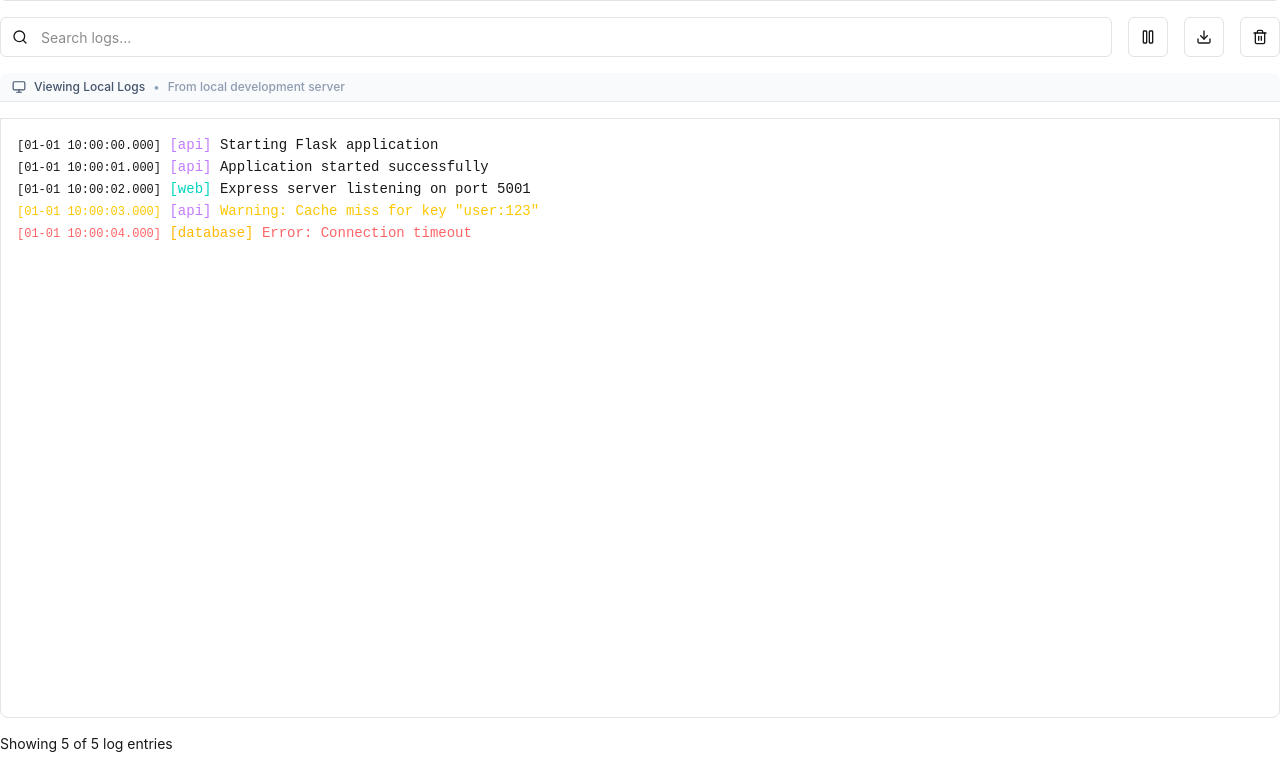
LogsView › should jump to bottom when button is clicked
Expected: the text "Starting Flask application" is shown, [220,137,438,153]
Click the button titled "Pause": (1148, 37) [1128,17,1168,57]
(page scrolled)
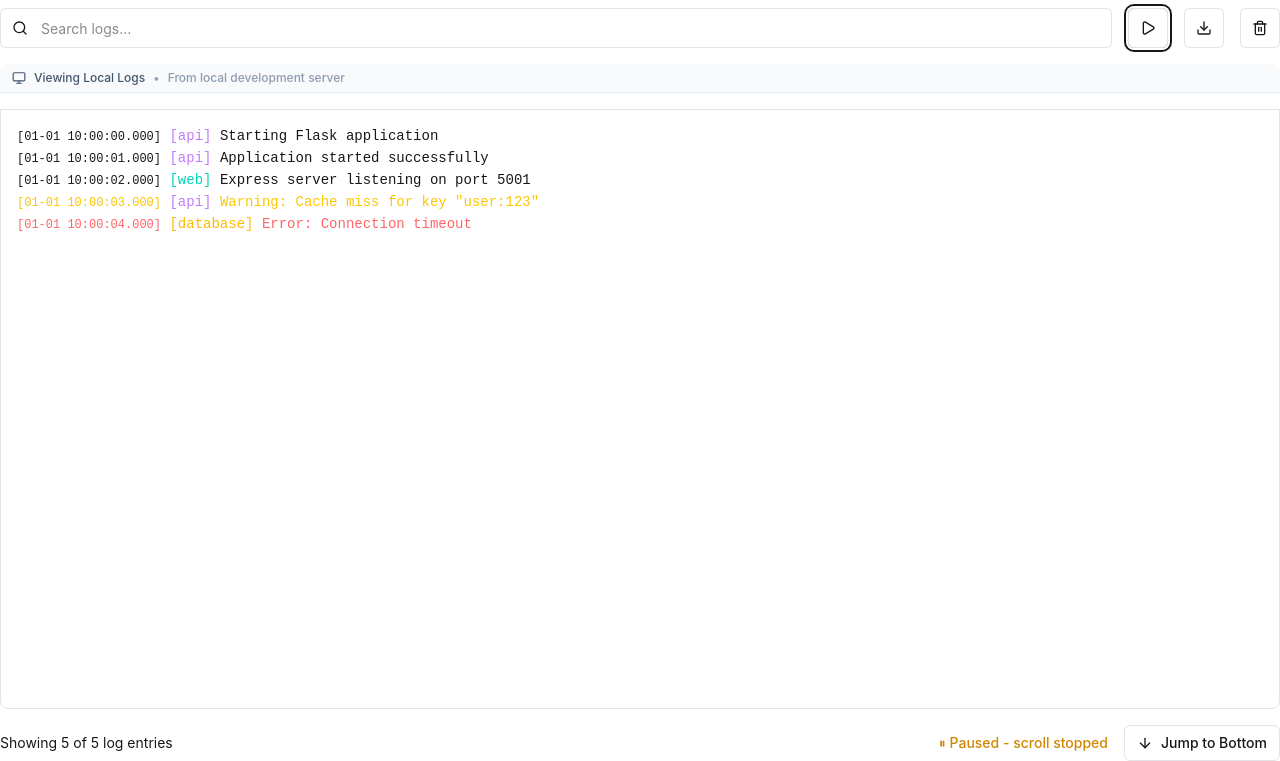
Now the button "Jump to Bottom" is shown
# Click jump to bottom
Click the button "Jump to Bottom": (1202, 743) [1124,725,1279,760]
(page scrolled)
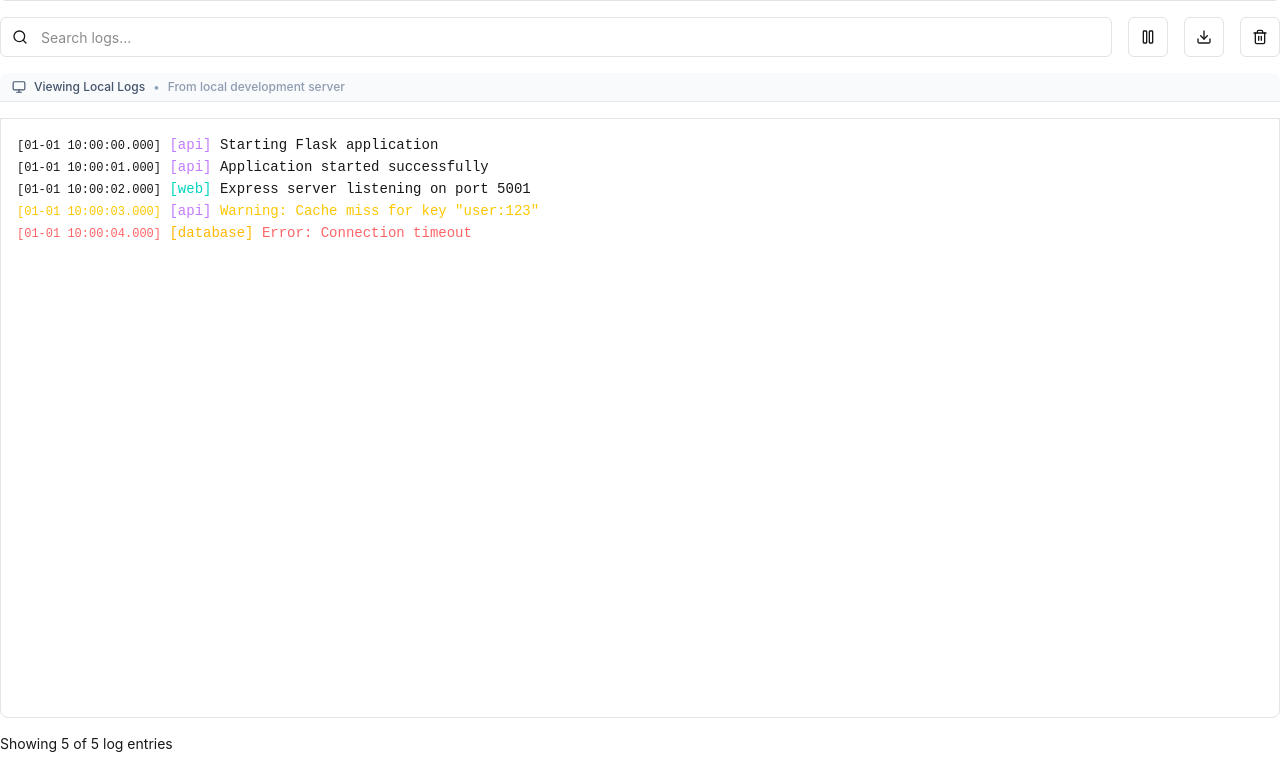
Now the button "Jump to Bottom" is gone
